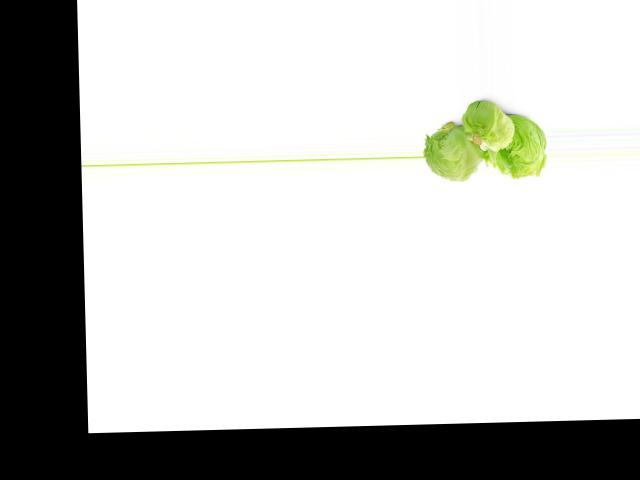lettuce: (490, 117, 544, 175)
